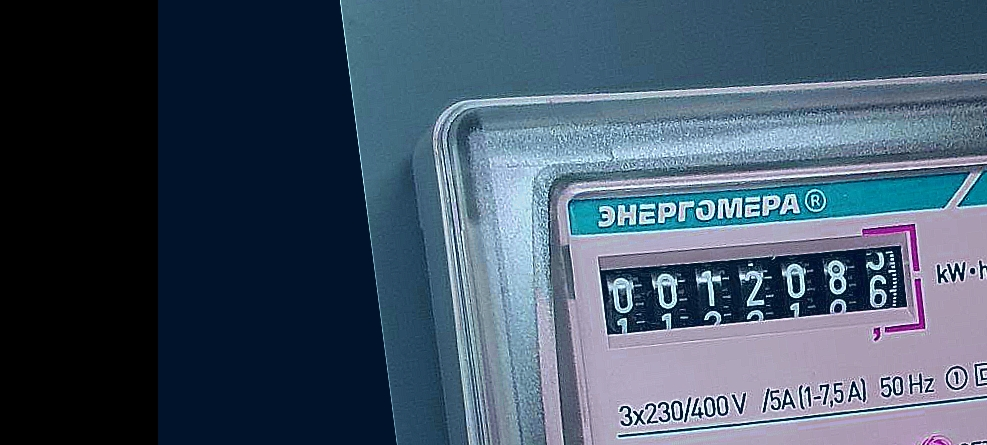0: (651, 267, 684, 312), (608, 271, 637, 316), (781, 259, 809, 300)
1: (696, 265, 723, 308)
2: (739, 266, 769, 308)
6: (863, 270, 891, 309)
8: (823, 255, 850, 297)
screen: (587, 201, 941, 382)
